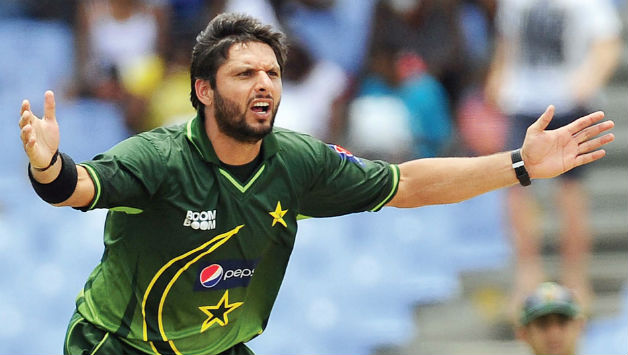NoMask: (219, 63, 282, 140)
